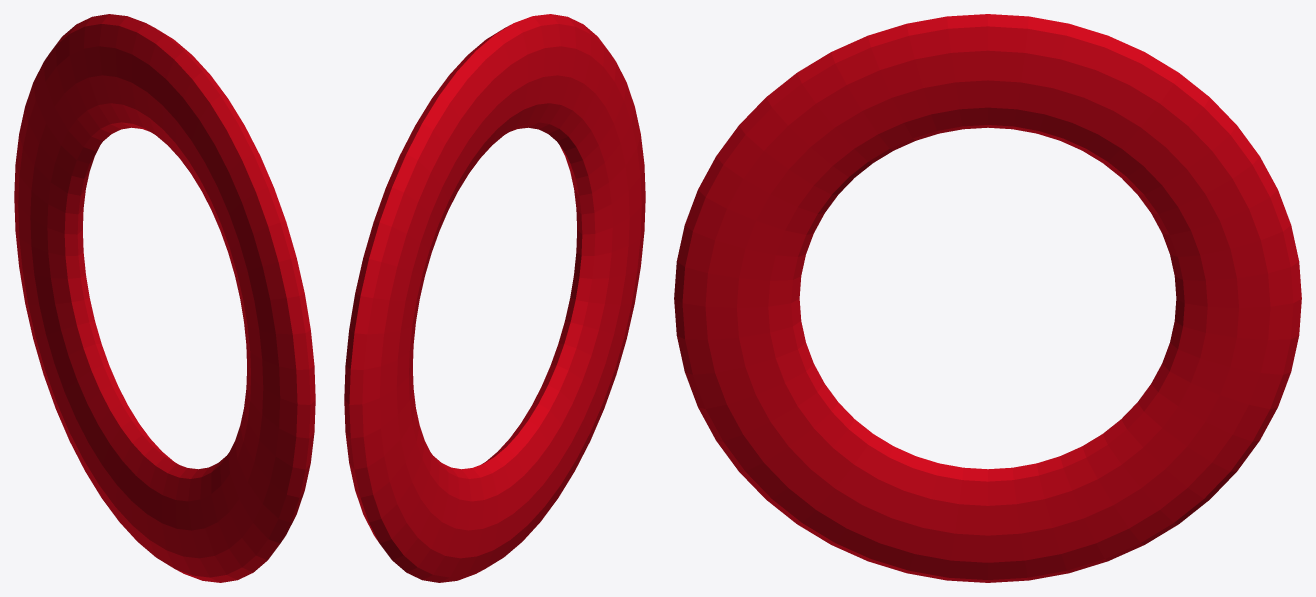
Rendered from ring.dae.
3 renders of one model, left to right at view 1: azimuth 30°, elevation 25°; view 2: azimuth 150°, elevation 25°; view 3: azimuth 270°, elevation 25°, orthographic. The views are drawn at different scales.
Parts seen in each view (by area): view 1: Torus; view 2: Torus; view 3: Torus.
Boxes of the visible parts, left/top/right/bottom form: Torus: left=14, top=14, right=315, bottom=582; Torus: left=344, top=14, right=645, bottom=582; Torus: left=674, top=14, right=1301, bottom=582.
Size of the model in its own units: 0.0449 by 0.6238 by 0.6238.
